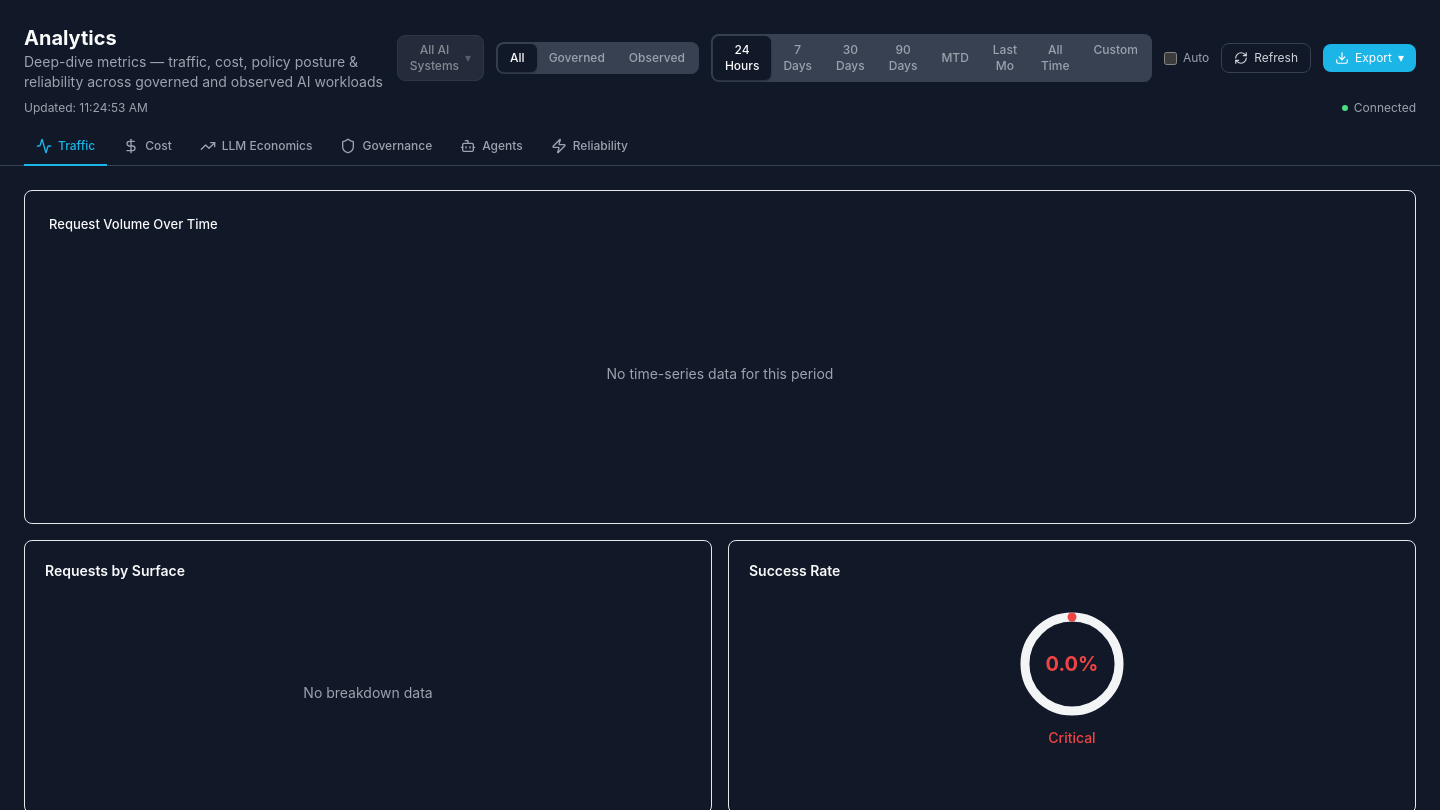
it: MissionControl — with nothing contributed › has no Caching tab and no cache tile, and asks nothing about caches
What coordinates should you click on to do the following:
click the tab "Reliability"
I would click on:
 (589, 147)
Its box is left=539, top=128, right=640, bottom=166.
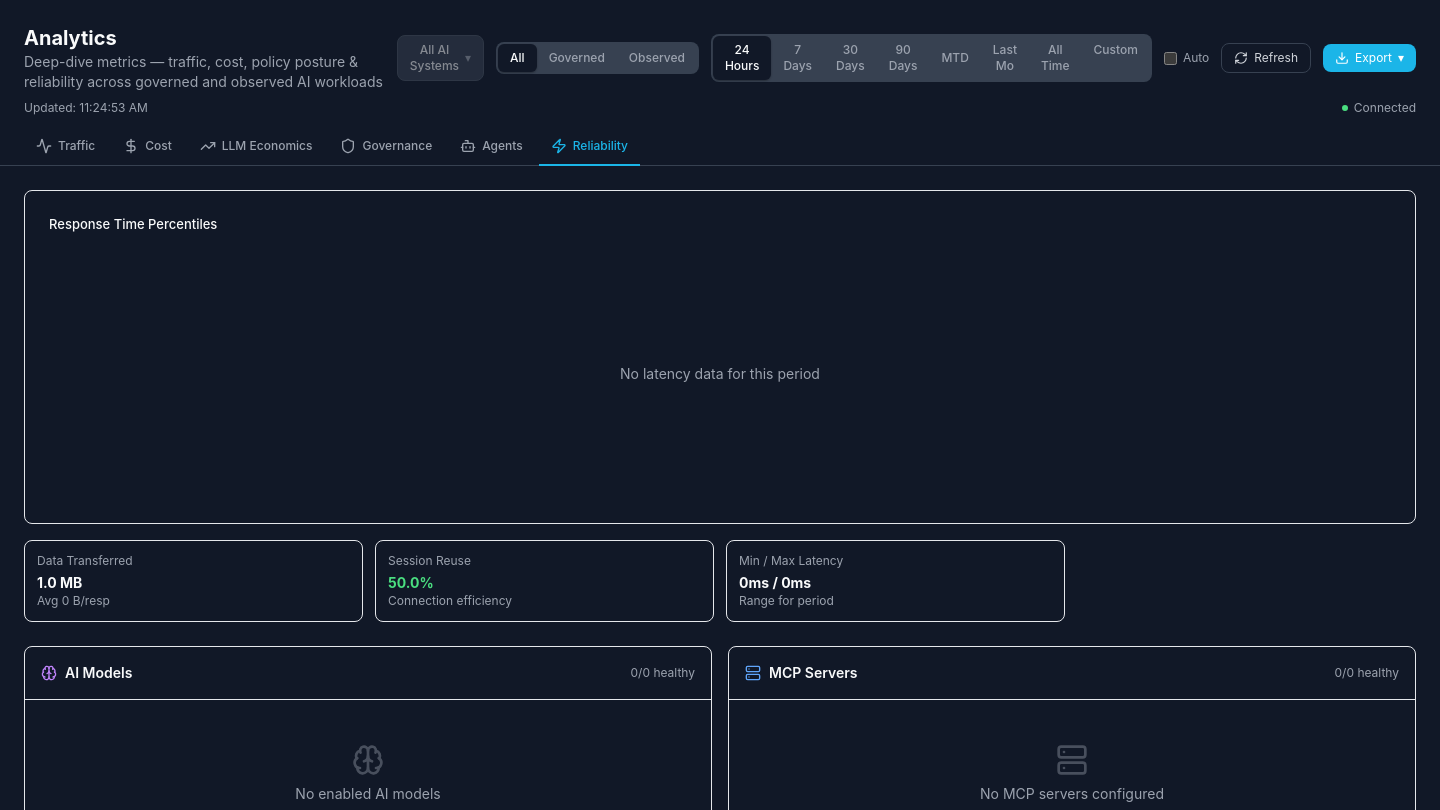
Now the text "Session Reuse" is shown, box left=388, top=553, right=471, bottom=568
Now the text "Data Transferred" is shown, box left=37, top=553, right=133, bottom=568
